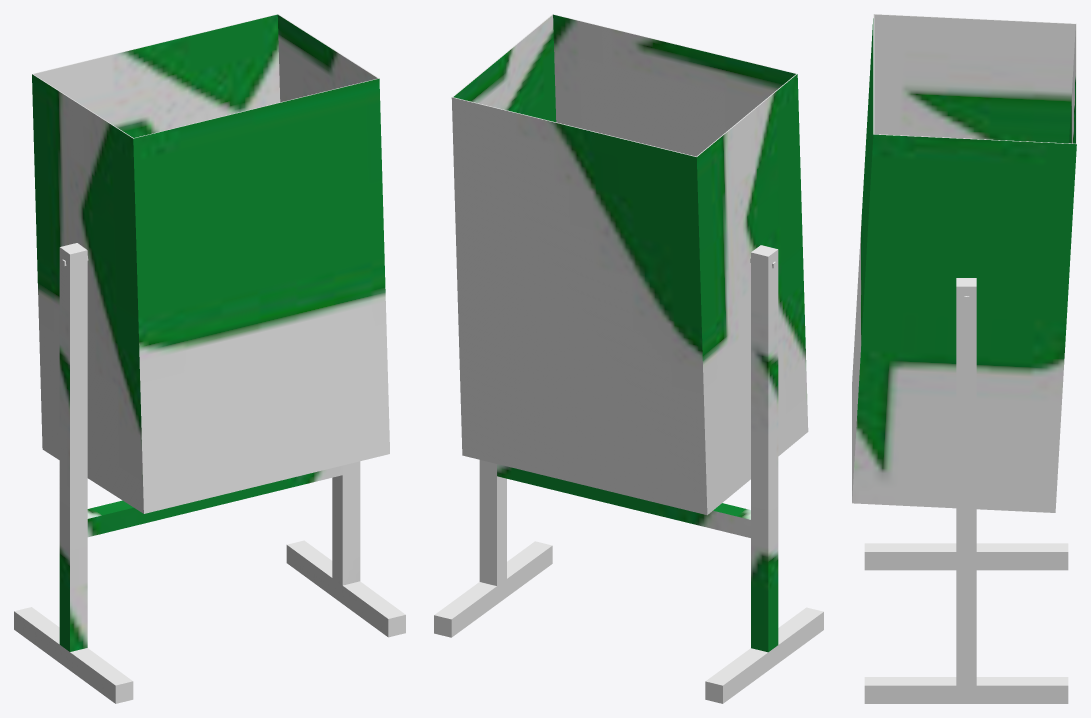
Rendered from recycle bin.fbx.
The picture shows the model from 3 angles, left to right: view 1: azimuth 30°, elevation 25°; view 2: azimuth 150°, elevation 25°; view 3: azimuth 270°, elevation 25°; orthographic projection.
Parts seen in each view (by area): view 1: bin:Mesh; view 2: bin:Mesh; view 3: bin:Mesh.
Boxes of the visible parts, <box> form: bin:Mesh: <box>14,14,405,703</box>; bin:Mesh: <box>434,14,823,703</box>; bin:Mesh: <box>852,14,1076,703</box>.
Bounding box in the file's own units: 11.53 × 20.94 × 7.64.
